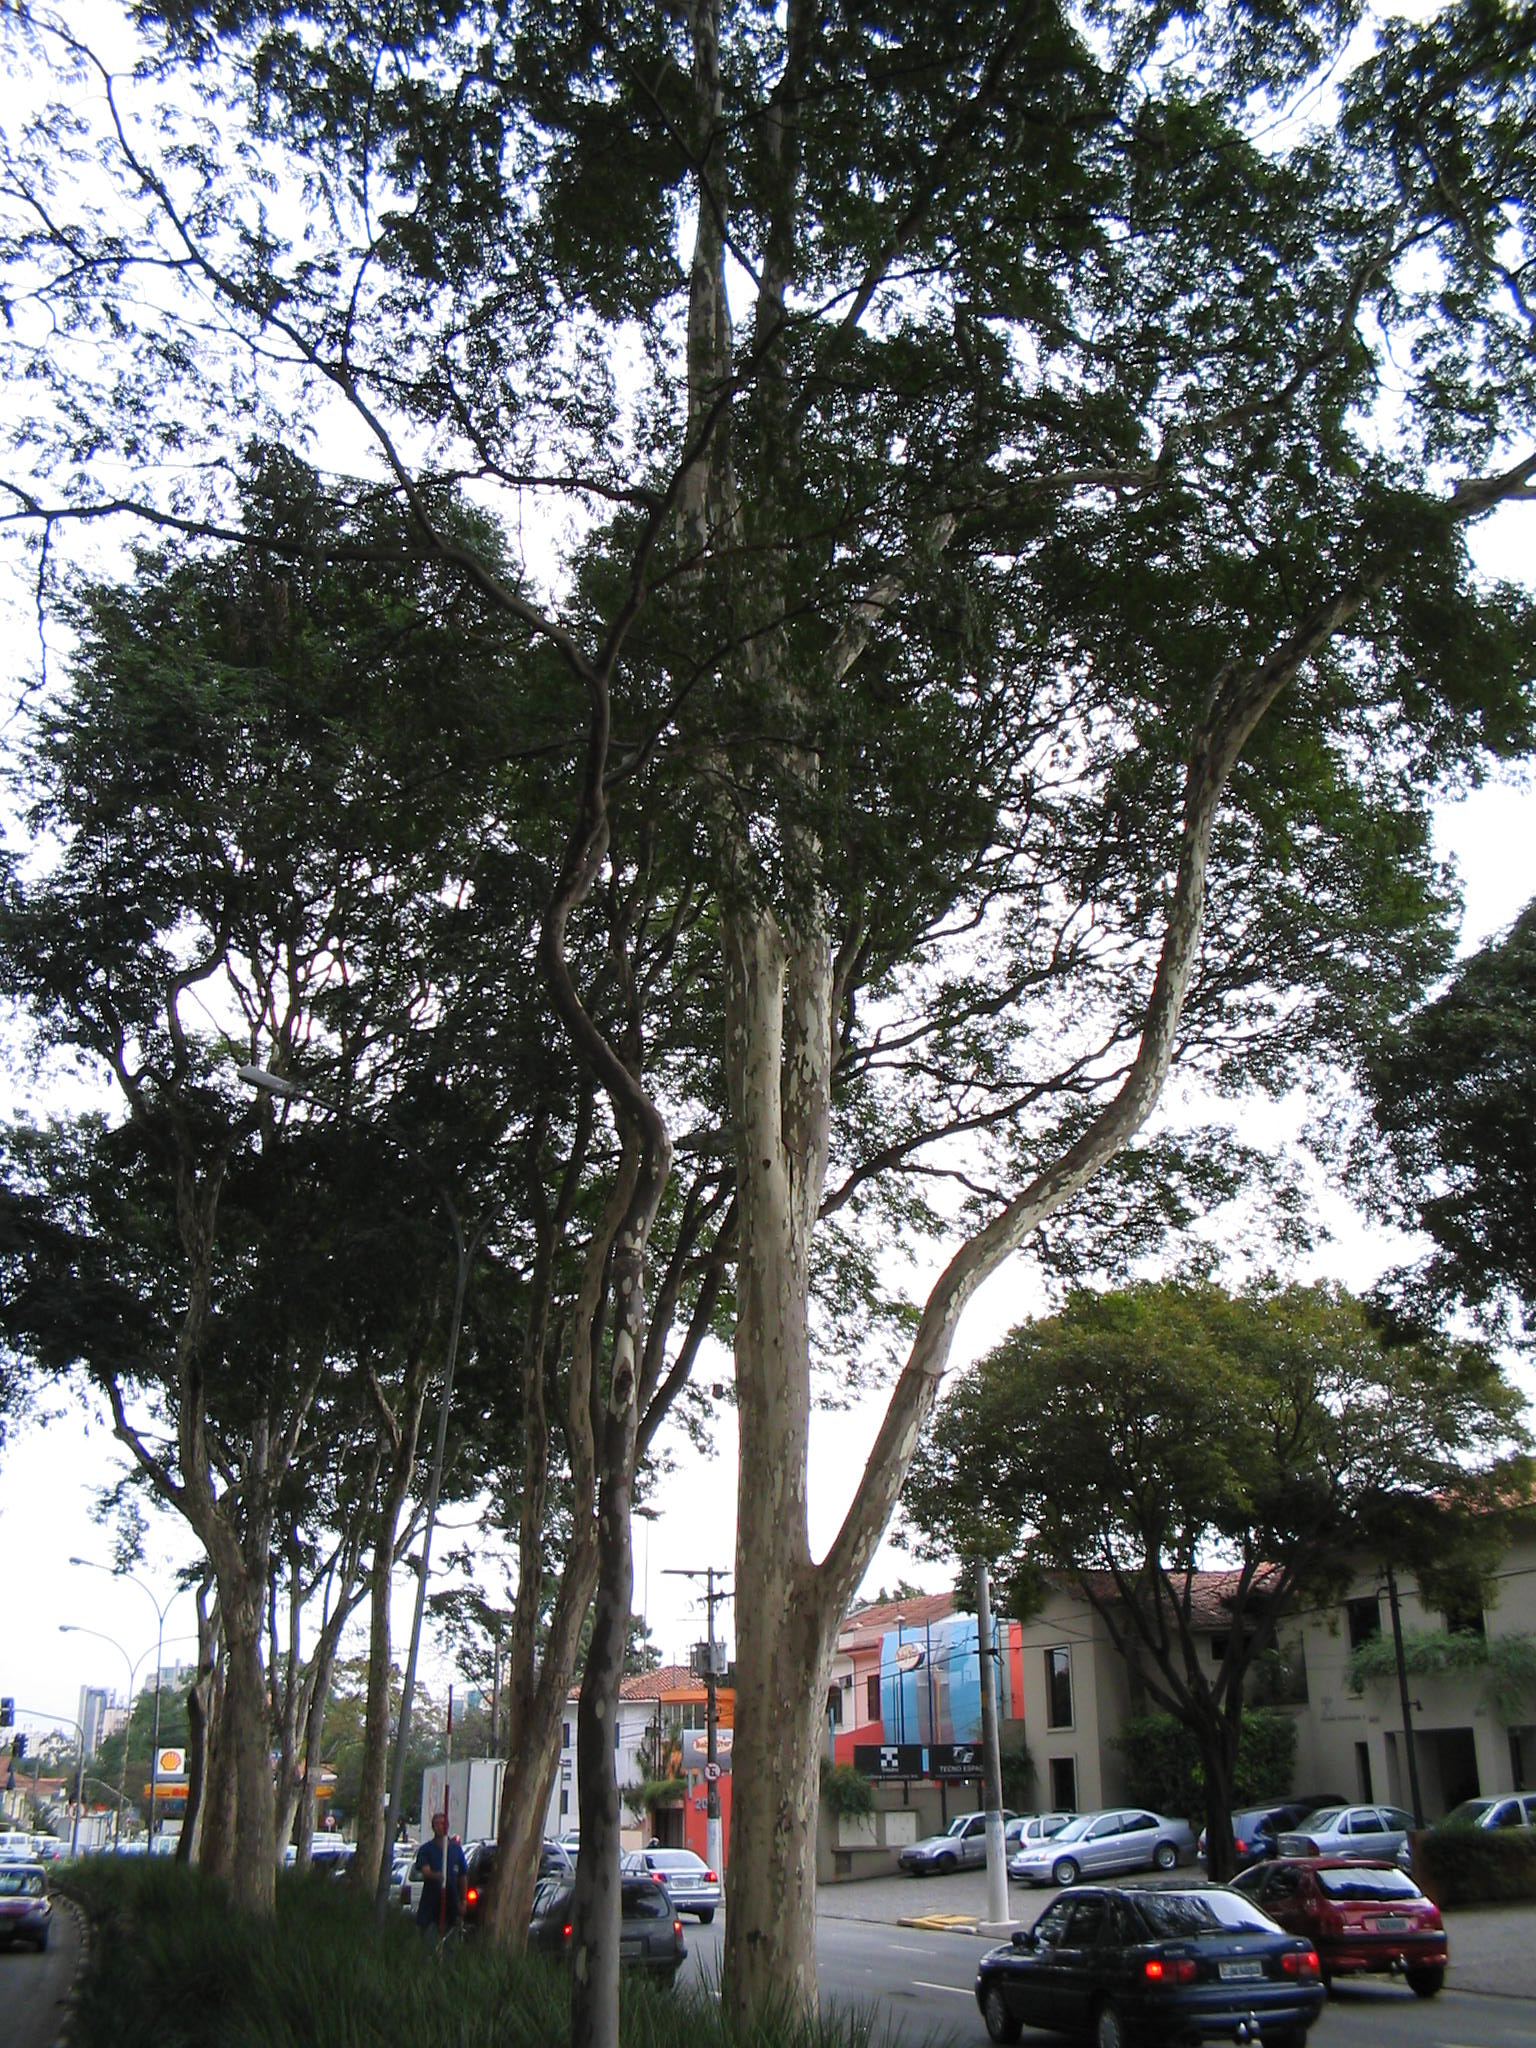crown: (900, 1276, 1530, 1640)
stem: (1175, 1725, 1254, 1871)
tree: (894, 1274, 1528, 1879)
